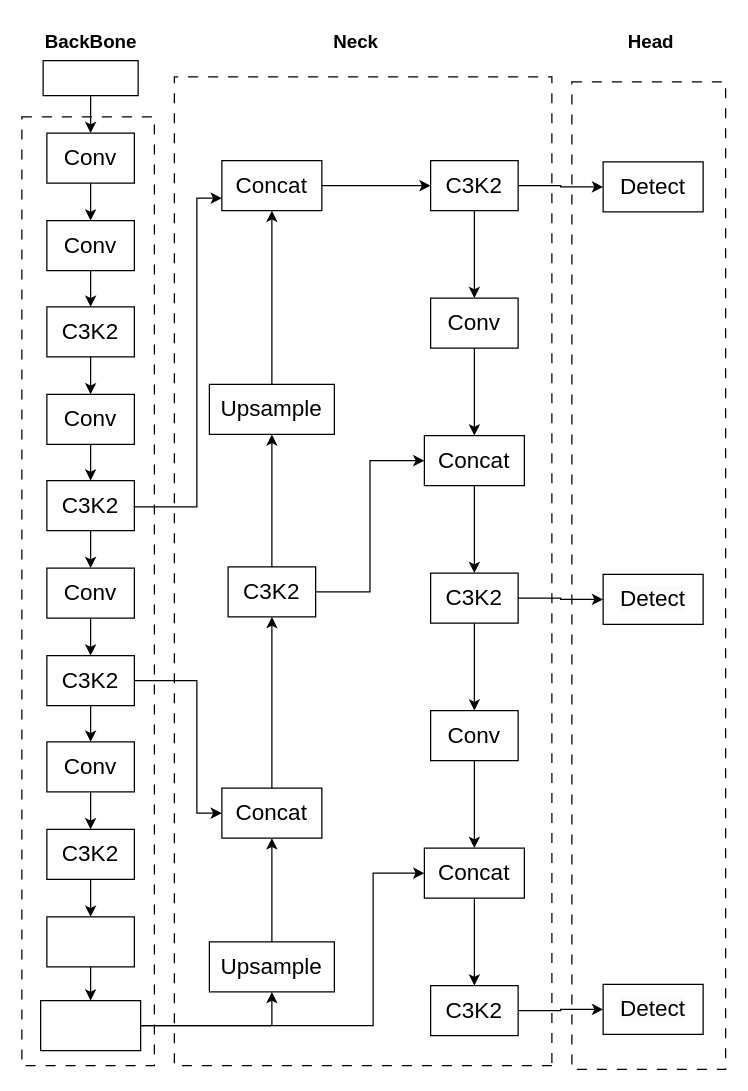
Image size: 748x1091. Some labels were removed from this diagram. The shapes that lost their labels are listed below. From the top down, each one's centre as x and y in pixels, then its label:
point (90, 77): Input
point (90, 941): SPPF
point (90, 1025): C2PSA
